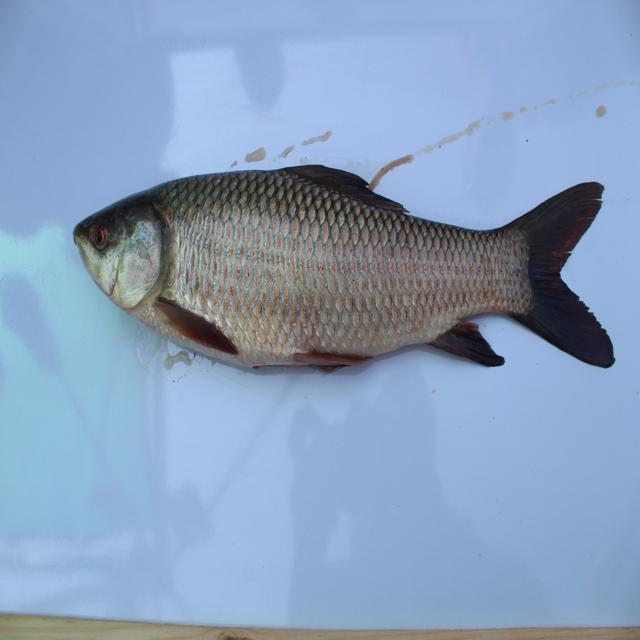Rohu: (73, 158, 625, 388)
